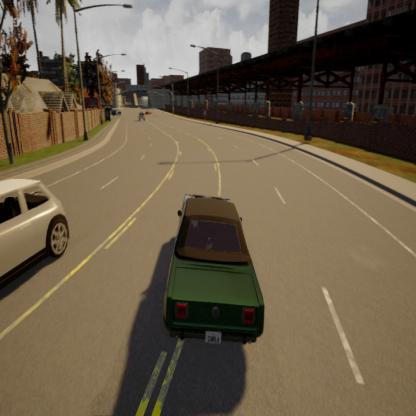Cars: (164, 195, 264, 345), (0, 177, 70, 287), (109, 104, 124, 116), (138, 108, 146, 122), (144, 105, 152, 116)
